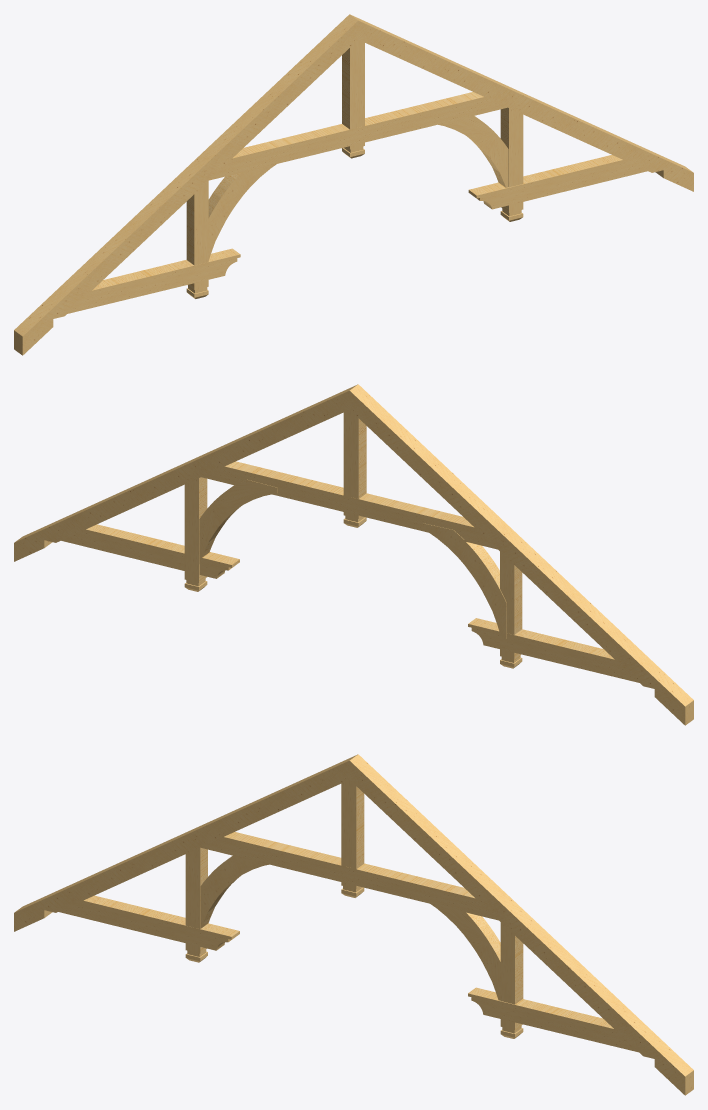
The model's file is hammer20_truss.glb.
3 renders of one model, top to bottom at view 1: azimuth 30°, elevation 25°; view 2: azimuth 150°, elevation 25°; view 3: azimuth 330°, elevation 25°, orthographic.
Parts seen in each view (by area): view 1: hammer-truss; view 2: hammer-truss; view 3: hammer-truss.
Part boxes in pixels (x1,y1,x2,y2): hammer-truss: [14, 14, 693, 355]; hammer-truss: [14, 384, 693, 725]; hammer-truss: [14, 754, 693, 1095].
Bounding box in the file's own units: 6.72 × 2.42 × 0.1524.
Materials: 1 (1 with a texture image).
